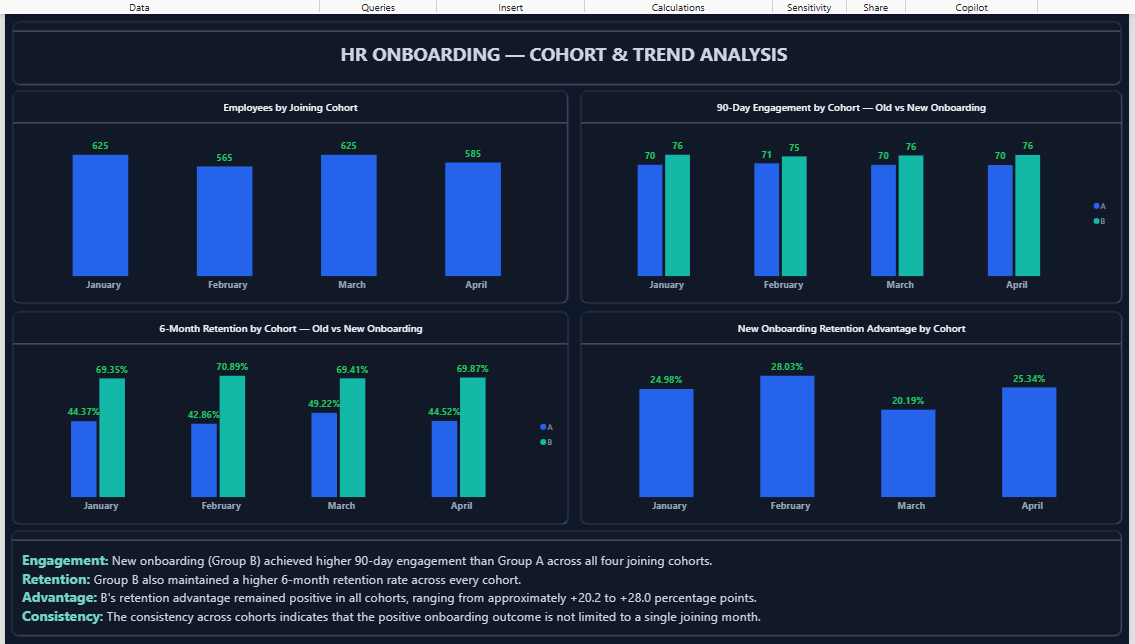

Layout of this report page (visuals, bound fields, positions):
{"tool":"powerbi","page":{"name":"Cohort & Trend Analysis","canvas":[1920,1080],"ordinal":1},"visuals":[{"type":"clusteredColumnChart","title":"Employees by Joining Cohort","fields":{"Category":["Employee_Data.Cohort_Month.Variation.Date Hierarchy.Month"],"Y":["CountNonNull(Employee_Data.Employee_ID)"]},"box":[13.7,131.6,946.7,362.3],"z":0},{"type":"clusteredColumnChart","title":"90-Day Engagement by Cohort — Old vs New Onboarding","fields":{"Category":["Employee_Data.Cohort_Month.Variation.Date Hierarchy.Month"],"Series":["Employee_Data.Onboarding_Group"],"Y":["Avg(Employee_Data.Engagement_90D)"]},"box":[984.3,131.6,922.8,362.3],"z":1000},{"type":"clusteredColumnChart","title":"6-Month Retention by Cohort — Old vs New Onboarding","fields":{"Category":["Employee_Data.Cohort_Month.Variation.Date Hierarchy.Month"],"Series":["Employee_Data.Onboarding_Group"],"Y":["Employee_Data.Retention Rate"]},"box":[13.7,509.2,948.4,362.3],"z":2000},{"type":"clusteredColumnChart","title":"New Onboarding Retention Advantage by Cohort","fields":{"Category":["Employee_Data.Cohort_Month.Variation.Date Hierarchy.Month"],"Y":["Employee_Data.B Retention Advantage"]},"box":[984.3,509.2,922.8,362.3],"z":3000},{"type":"textbox","box":[12,883.5,1895.1,177.7],"z":4000},{"type":"textbox","box":[13.7,13.7,1893.4,105.9],"z":4001}]}

Visuals, with their boxes on the page's 1920x1080 design canvas (x1, y1, x2, y2). These are canvas units, not pixel positions in the 1135x644 screenshot, which may show the page scaled, cropped or inside an application window:
"Employees by Joining Cohort" clusteredColumnChart: box=[14, 132, 960, 494]
"90-Day Engagement by Cohort — Old vs New Onboarding" clusteredColumnChart: box=[984, 132, 1907, 494]
"6-Month Retention by Cohort — Old vs New Onboarding" clusteredColumnChart: box=[14, 509, 962, 872]
"New Onboarding Retention Advantage by Cohort" clusteredColumnChart: box=[984, 509, 1907, 872]
textbox: box=[12, 884, 1907, 1061]
textbox: box=[14, 14, 1907, 120]
